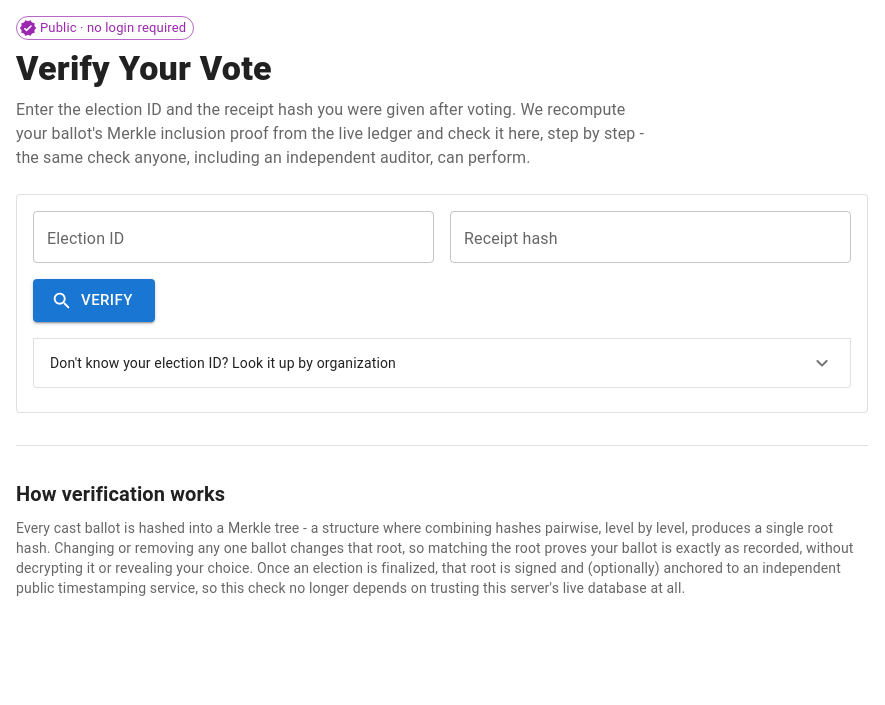
Verify Page › Error Handling › shows a not-found message for a 404 response
The width and height of the screenshot is (885, 705).
Type "election-1" into the field labelled "Election ID".
click(234, 237); type("election-1")  # box left=33, top=211, right=434, bottom=263
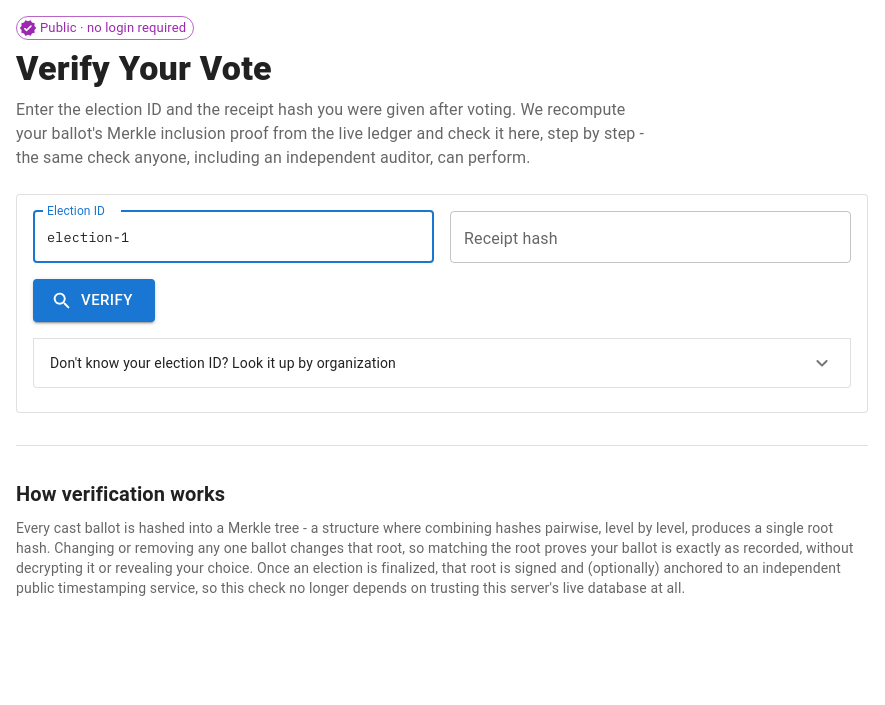
Type "receipt-hash-abc" into the field labelled "Receipt hash".
click(650, 237); type("receipt-hash-abc")  # box left=450, top=211, right=851, bottom=263
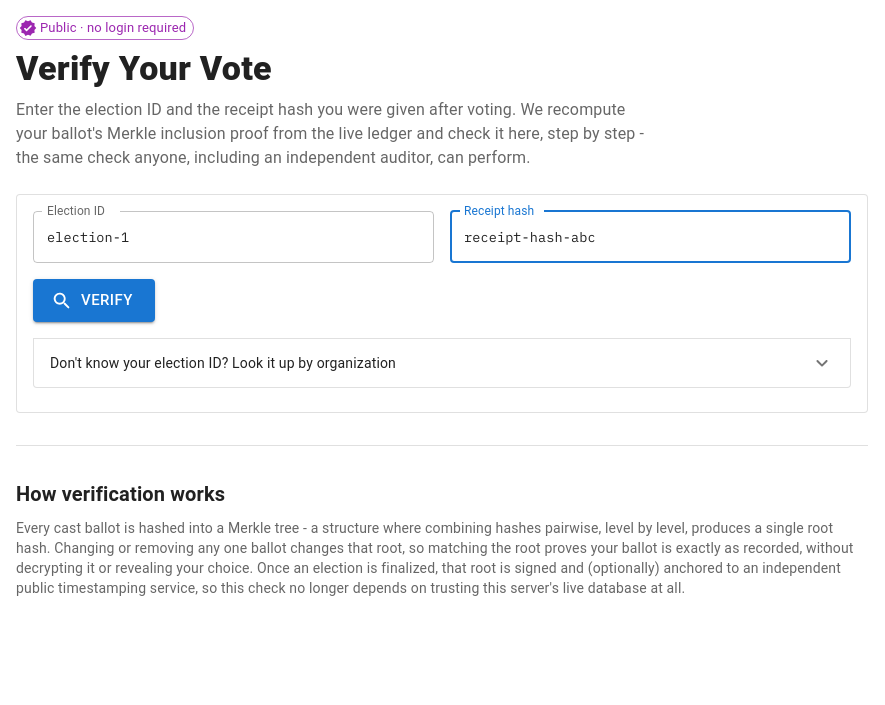
Click the button "Verify".
click(94, 301)  # box left=33, top=279, right=155, bottom=322
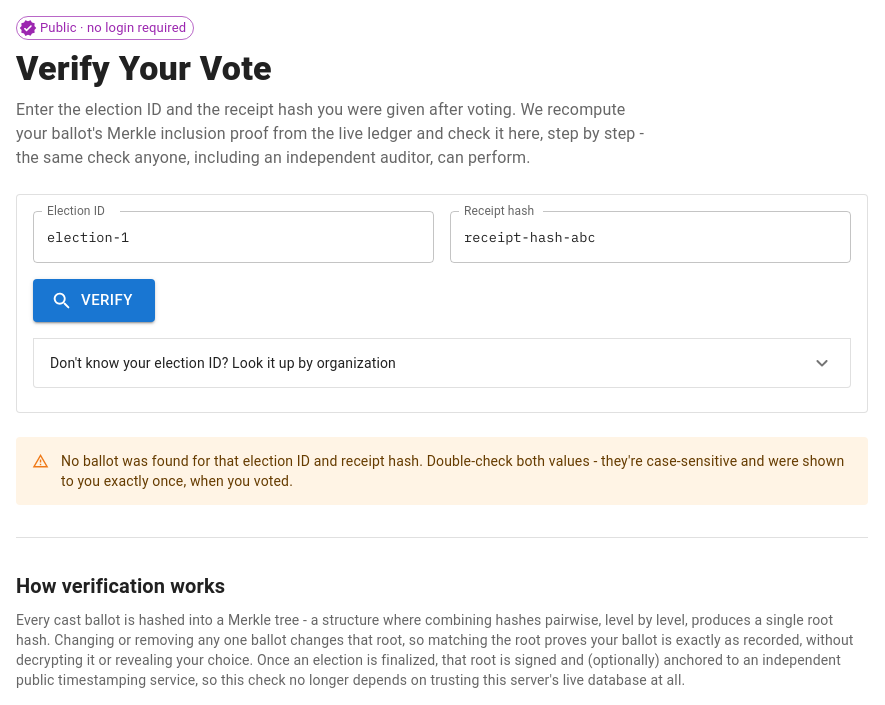
Check: the text "No ballot was found" is shown, box left=61, top=453, right=844, bottom=489
